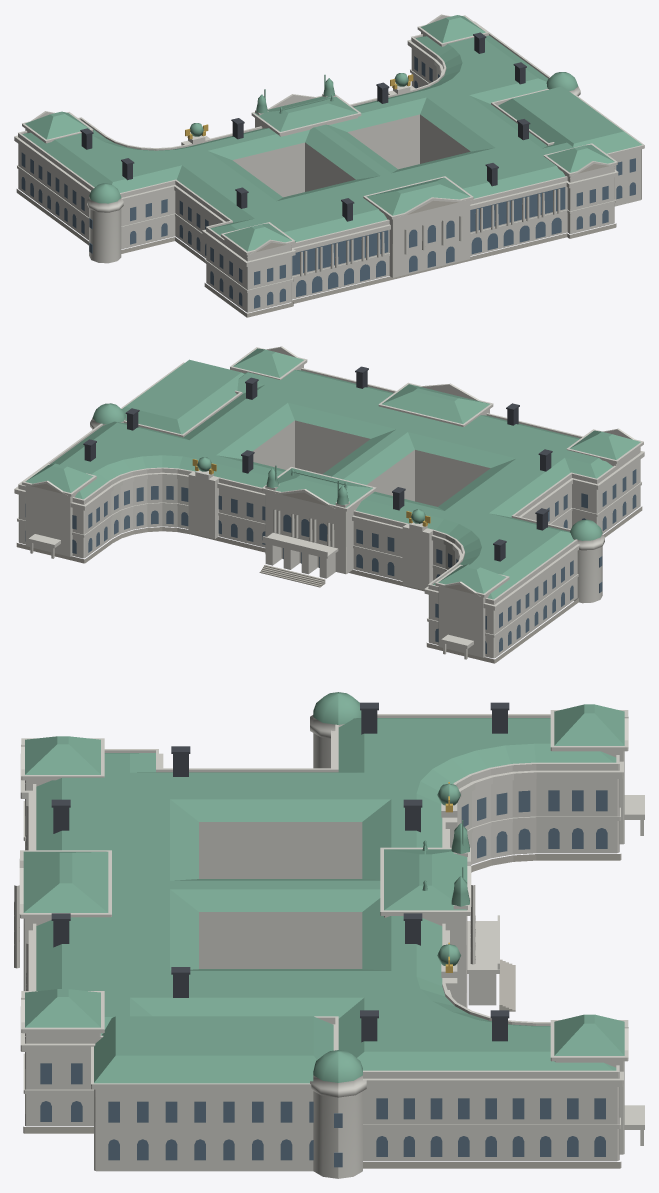
Rendered from tokyo-akasaka-palace.glb.
3 views of the same model, one above another, from view 1: azimuth 30°, elevation 25°; view 2: azimuth 150°, elevation 25°; view 3: azimuth 270°, elevation 25° (orthographic). The views are drawn at different scales.
Parts seen in each view (by area): view 1: Akasaka Palace; view 2: Akasaka Palace; view 3: Akasaka Palace.
Part boxes in pixels (x1,y1,x2,y2): Akasaka Palace: (14, 14, 644, 317); Akasaka Palace: (14, 346, 644, 663); Akasaka Palace: (14, 692, 644, 1178).
Bounding box in the file's own units: 125 × 22.11 × 87.02.
